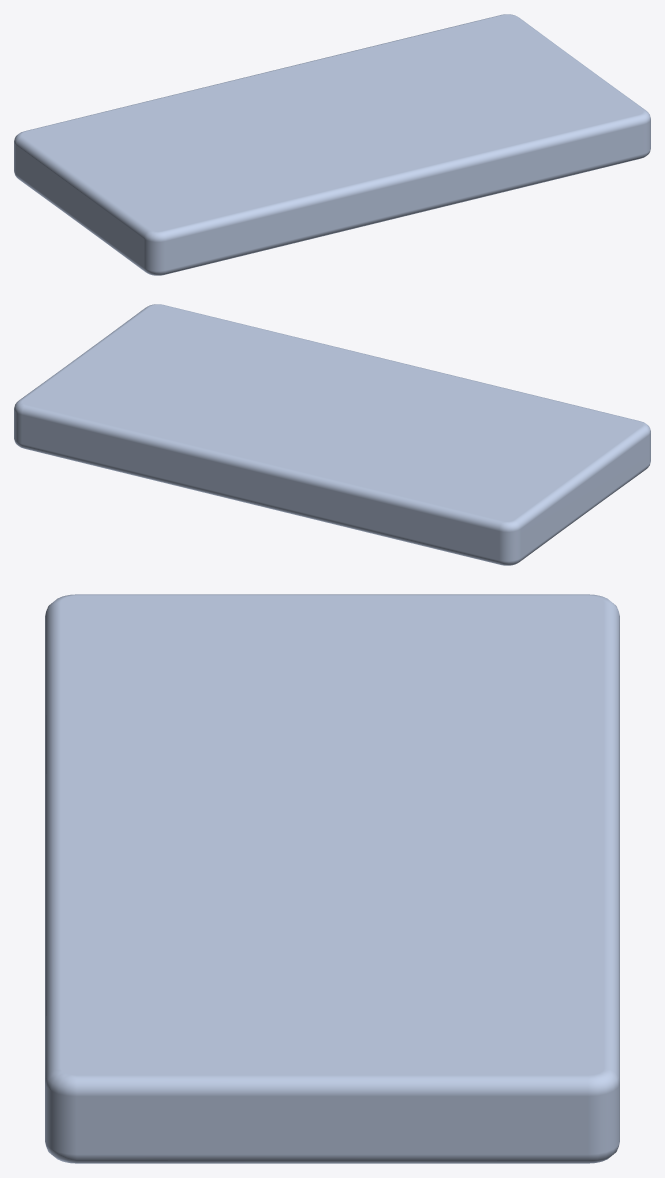
Rendered from Bed.glb.
The picture shows the model from 3 angles, top to bottom: view 1: azimuth 30°, elevation 25°; view 2: azimuth 150°, elevation 25°; view 3: azimuth 270°, elevation 25°; orthographic projection. The views are drawn at different scales.
Parts seen in each view (by area): view 1: Bed; view 2: Bed; view 3: Bed.
Boxes of the visible parts, x1,y1,x2,y2 form: Bed: (14,14,650,275); Bed: (14,304,650,565); Bed: (45,594,619,1163).
Bounding box in the file's own units: 73 × 6 × 36.
